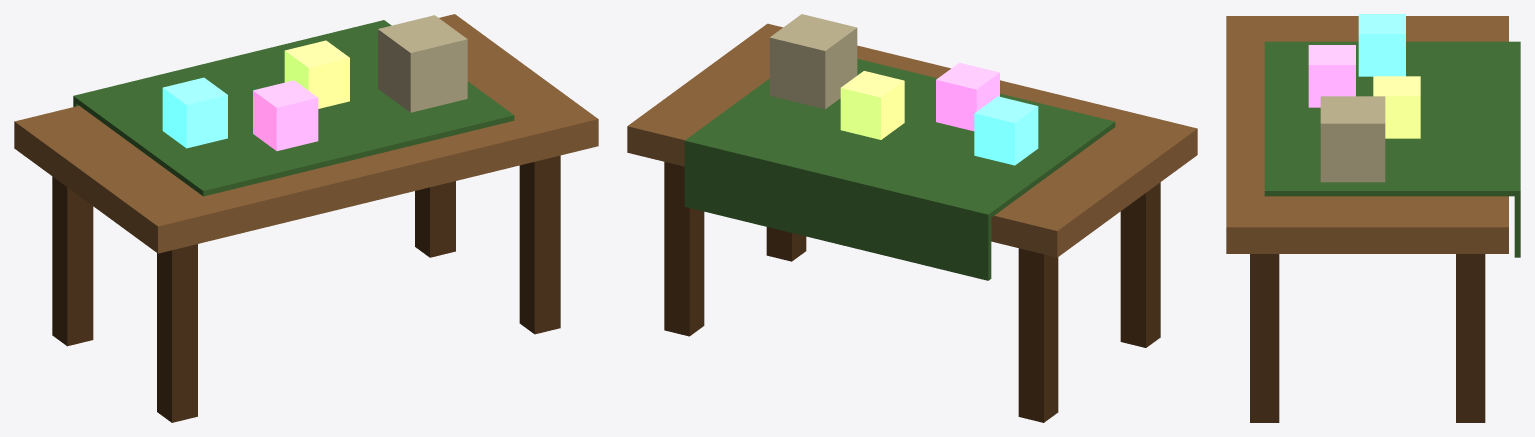
File: tt-trade-table-potions.glb
3 renders of one model, left to right at view 1: azimuth 30°, elevation 25°; view 2: azimuth 150°, elevation 25°; view 3: azimuth 270°, elevation 25°, orthographic. The views are drawn at different scales.
Visible parts, largest first — view 1: box-prop; view 2: box-prop; view 3: box-prop.
Part boxes in pixels (box(x1,y1,x2,y2)): box-prop: box(14, 14, 598, 422); box-prop: box(627, 14, 1197, 422); box-prop: box(1226, 14, 1520, 422).
Bounding box in the file's own units: 1.7 × 1.02 × 1.
